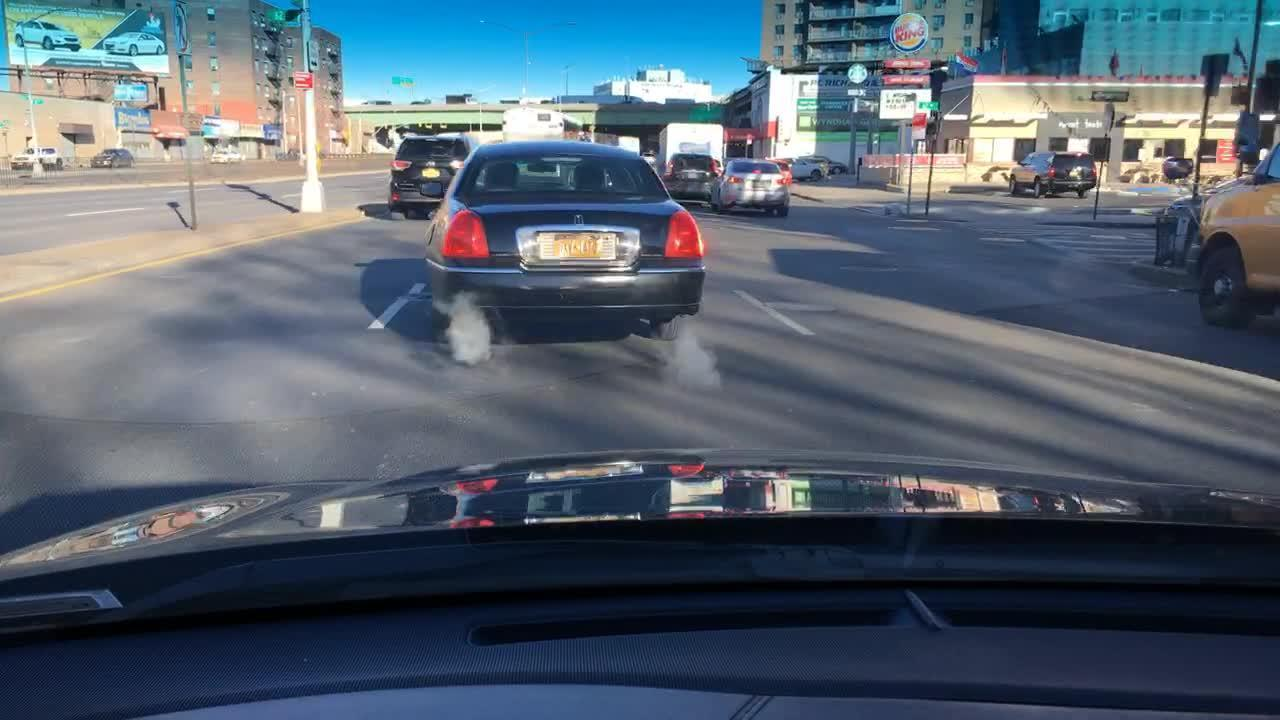lincoln: (574, 209, 586, 230)
